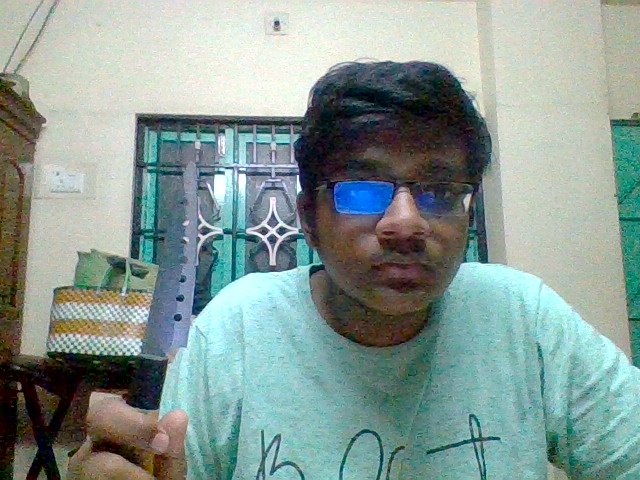knife: (133, 155, 200, 415)
